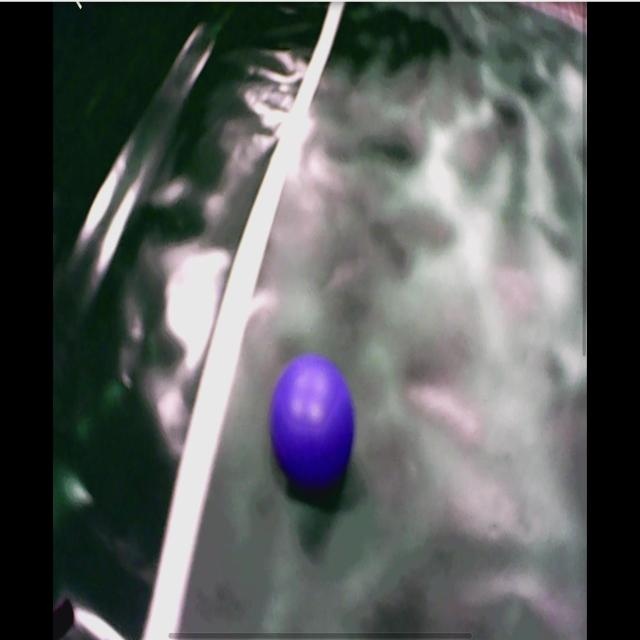ball: (271, 358, 356, 486)
